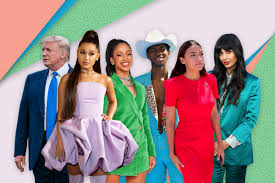without_mask: (39, 43, 69, 70), (179, 47, 207, 74), (110, 48, 135, 73), (75, 46, 101, 70), (147, 45, 172, 68), (217, 47, 239, 70)
